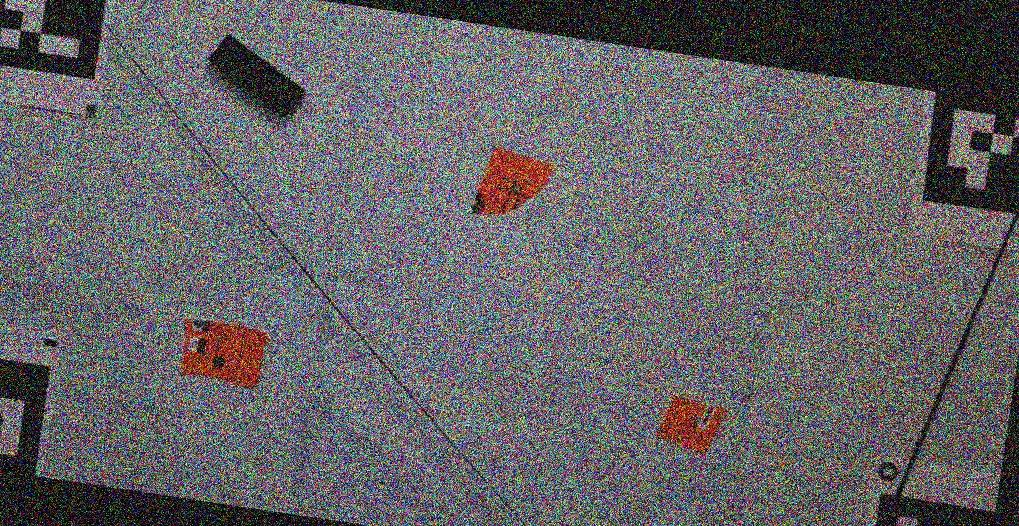obstacle: (206, 34, 309, 125), (182, 317, 265, 391), (469, 146, 553, 219), (655, 389, 727, 460)
